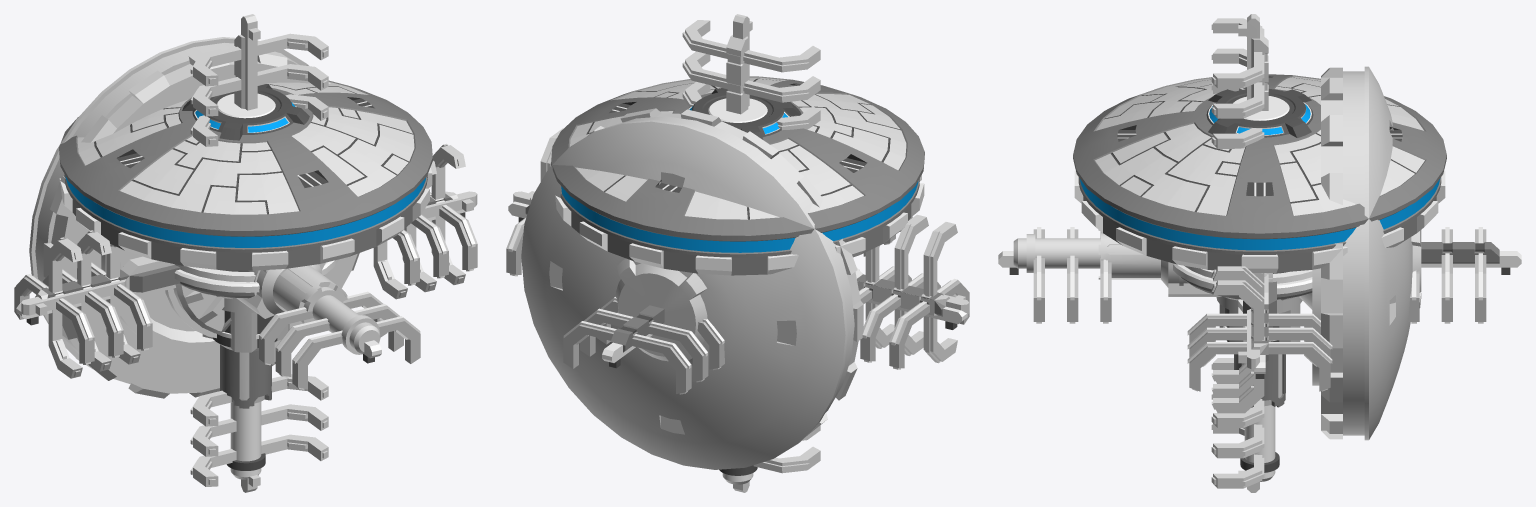
The model's file is station03.glb.
3 renders of one model, left to right at view 1: azimuth 30°, elevation 25°; view 2: azimuth 150°, elevation 25°; view 3: azimuth 270°, elevation 25°, orthographic.
Visible parts, largest first — view 1: Mesh_HD, Docking_LP, Mesh_LP, Docking_HD, Ring_HD, Ring_LP; view 2: Mesh_LP, Mesh_HD, Docking_LP, Docking_HD, Ring_HD, Ring_LP; view 3: Mesh_HD, Mesh_LP, Docking_HD, Docking_LP, Ring_LP, Ring_HD.
Part boxes in pixels (x1,y1,x2,y2): Mesh_HD: [59, 80, 432, 479]; Docking_LP: [21, 14, 477, 492]; Mesh_LP: [29, 37, 380, 398]; Docking_HD: [14, 192, 477, 389]; Ring_HD: [64, 174, 427, 252]; Ring_LP: [35, 42, 299, 383]; Mesh_LP: [521, 108, 863, 469]; Mesh_HD: [551, 76, 924, 484]; Docking_LP: [513, 14, 969, 492]; Docking_HD: [506, 201, 969, 394]; Ring_HD: [560, 178, 919, 257]; Ring_LP: [624, 116, 854, 412]; Mesh_HD: [1073, 74, 1446, 481]; Mesh_LP: [1013, 66, 1421, 440]; Docking_HD: [998, 227, 1521, 391]; Docking_LP: [1211, 14, 1272, 492]; Ring_LP: [1343, 71, 1364, 435]; Ring_HD: [1078, 177, 1441, 254].
Bounding box in the file's own units: 24 × 24 × 24.
